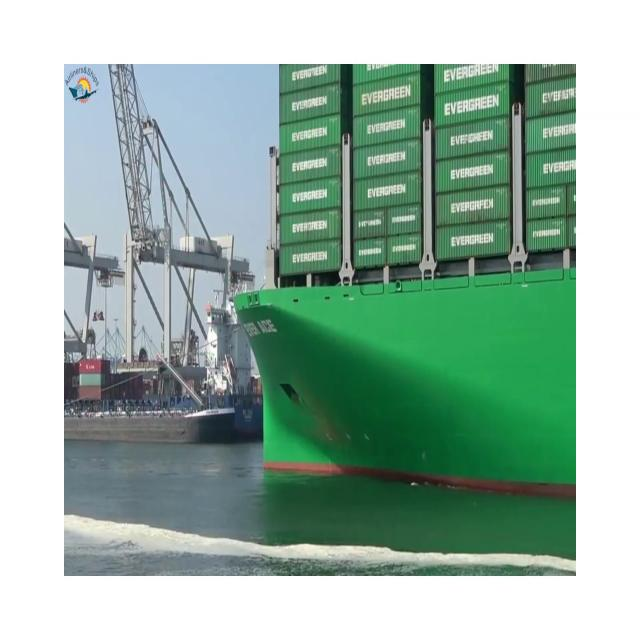OCR: (240, 311, 283, 349)
